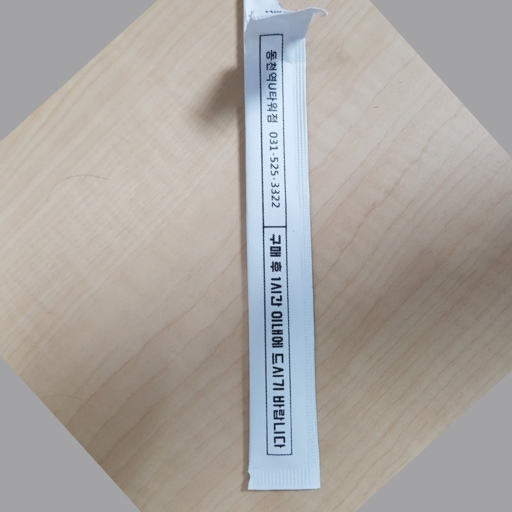Paper_2: (239, 14, 326, 494)
